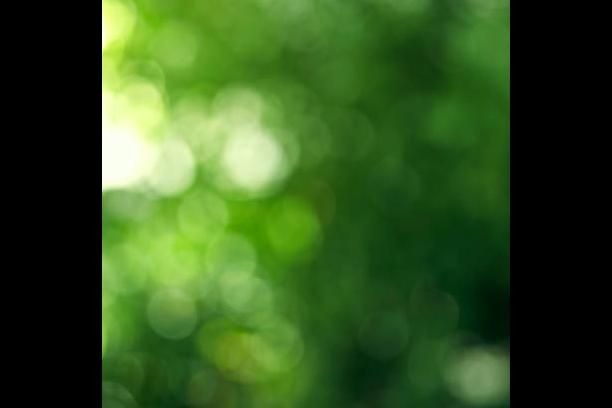Non_Gorille: (197, 32, 466, 392)
